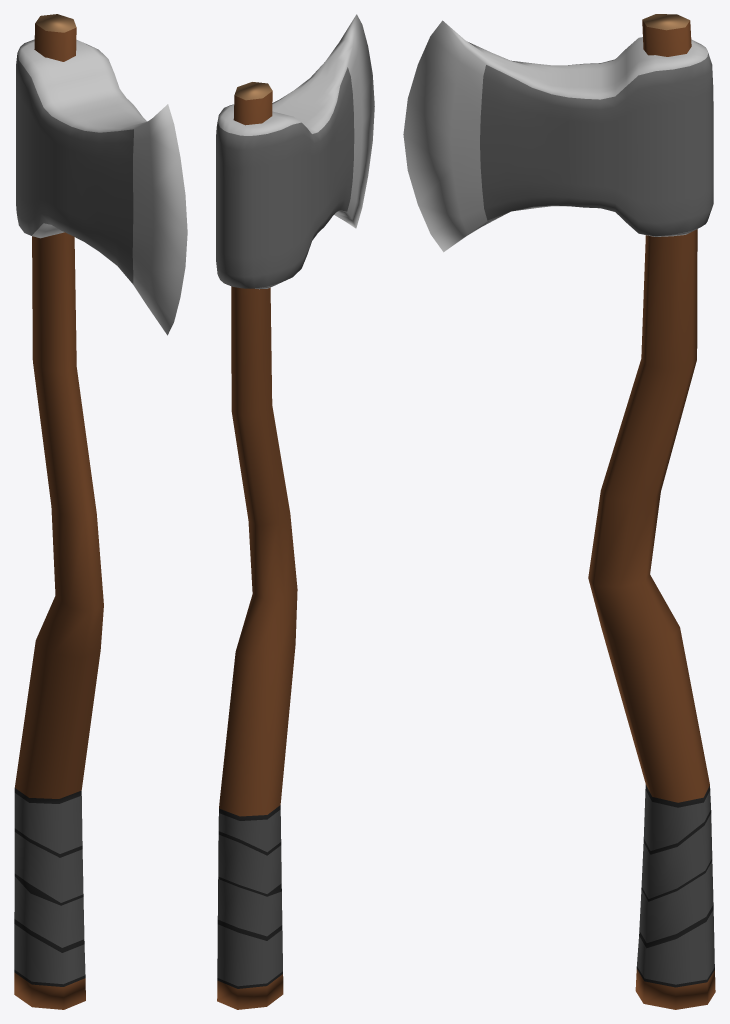
Rendered from MINIBOSS_axe.fbx.
The picture shows the model from 3 angles, left to right: view 1: azimuth 30°, elevation 25°; view 2: azimuth 150°, elevation 25°; view 3: azimuth 270°, elevation 25°; orthographic projection. The views are drawn at different scales.
Parts seen in each view (by area): view 1: pCylinder2; view 2: pCylinder2; view 3: pCylinder2.
Part boxes in pixels (x1,y1,x2,y2): pCylinder2: [14, 14, 187, 1009]; pCylinder2: [216, 14, 374, 1009]; pCylinder2: [403, 14, 715, 1009].
Bounding box in the file's own units: 0.9553 × 10.7 × 3.1.
